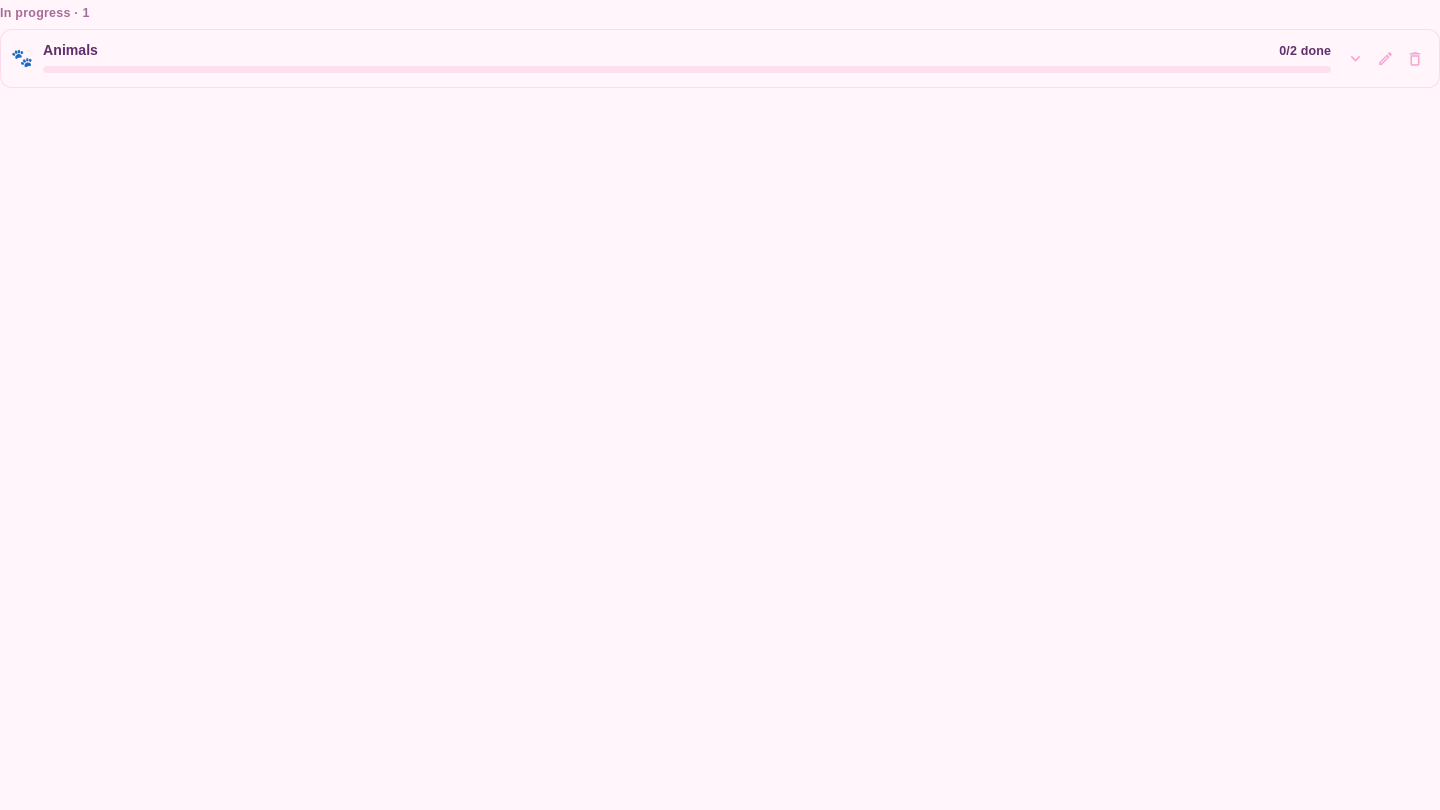
Test: AssignmentsList › opens the handout detail dialog when the deck name is clicked
Click the button with aria-label "See what's in Animals".
click(70, 50)  # box 43,40 -> 98,61
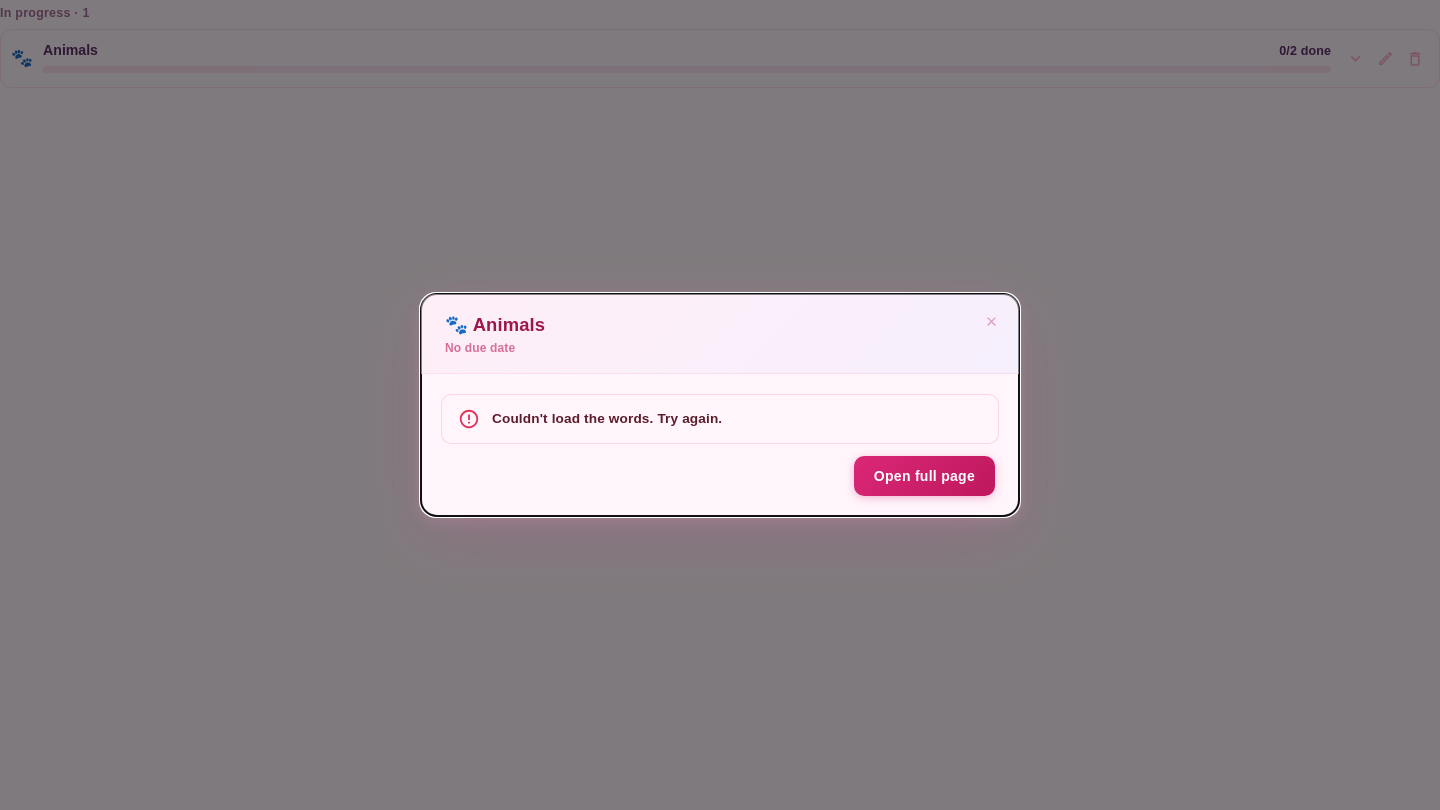
Now the text "🐾 Animals" is shown, box 445,314 -> 545,336
